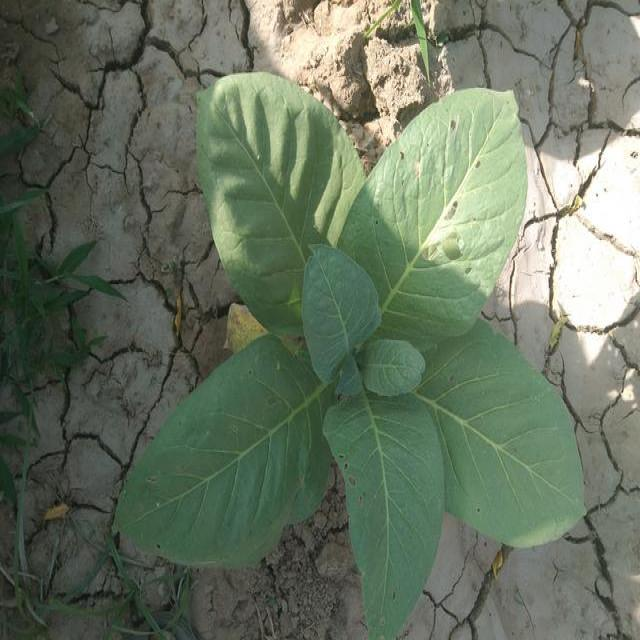crop: (128, 95, 580, 608)
